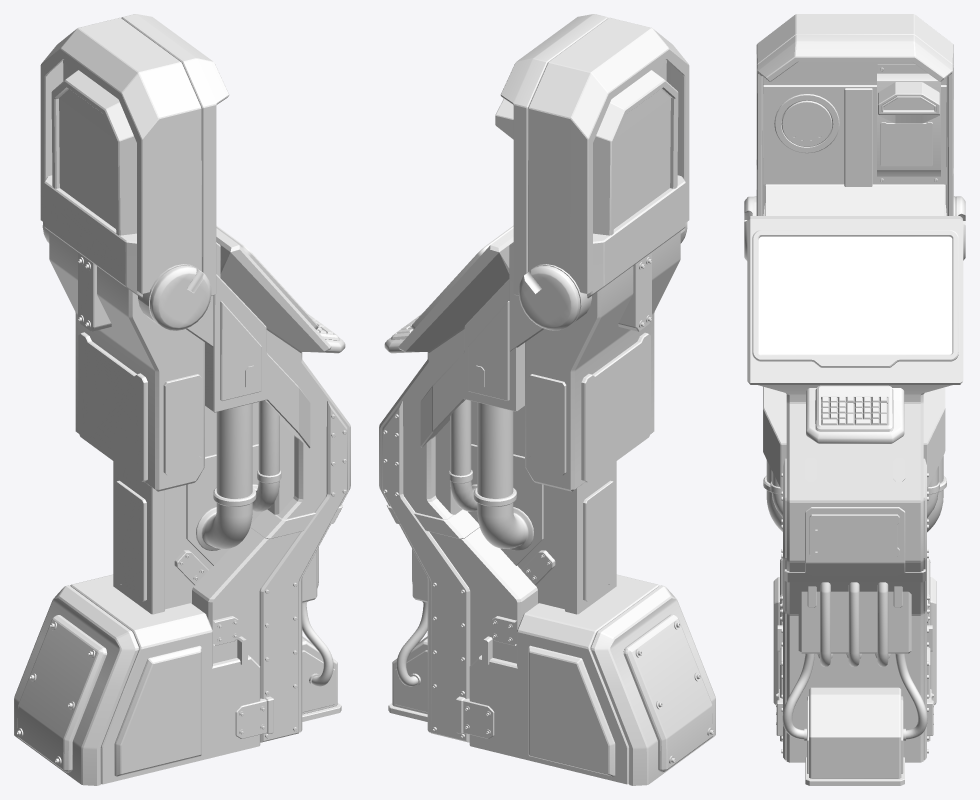
Rendered from KB3D_FTW_PropSecurityTerminal_A_grp.glb.
3 views of the same model, side by side, from view 1: azimuth 30°, elevation 25°; view 2: azimuth 150°, elevation 25°; view 3: azimuth 270°, elevation 25° (orthographic). The views are drawn at different scales.
Parts seen in each view (by area): view 1: KB3D_FTW_PropSecurityTerminal_A_Main; view 2: KB3D_FTW_PropSecurityTerminal_A_Main; view 3: KB3D_FTW_PropSecurityTerminal_A_Main.
Boxes of the visible parts, <box> form: KB3D_FTW_PropSecurityTerminal_A_Main: <box>14,14,350,785</box>; KB3D_FTW_PropSecurityTerminal_A_Main: <box>379,14,715,785</box>; KB3D_FTW_PropSecurityTerminal_A_Main: <box>744,14,965,785</box>.
Size of the model in its own units: 0.9291 by 2.13 by 0.634.
9 materials, 1 textured.
